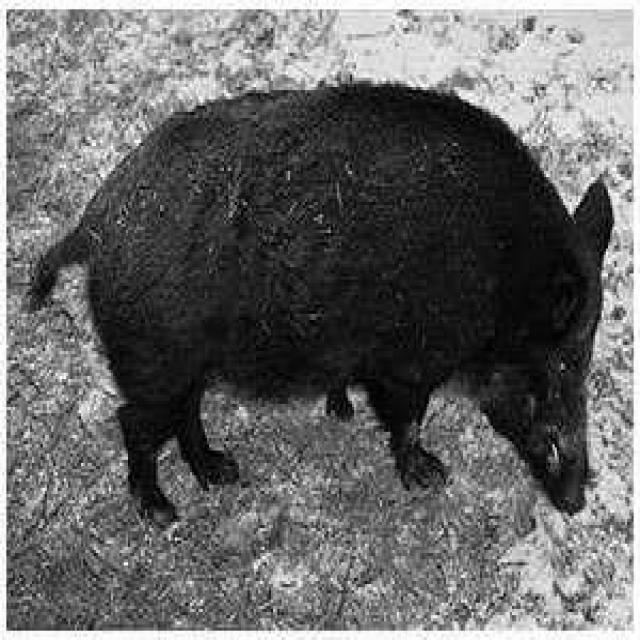boar: (32, 84, 612, 511)
